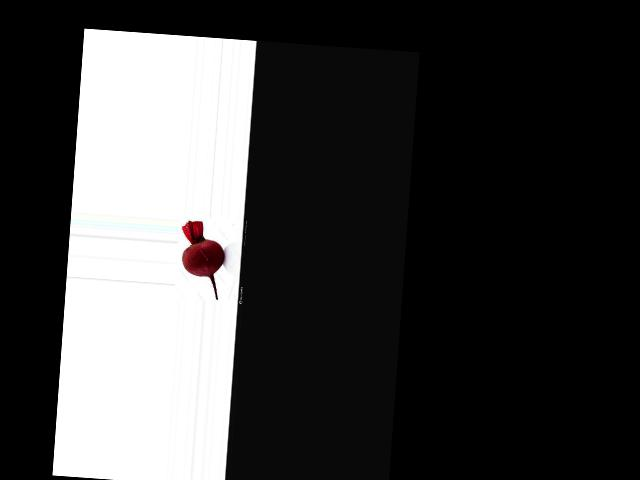beet: (177, 219, 226, 299)
